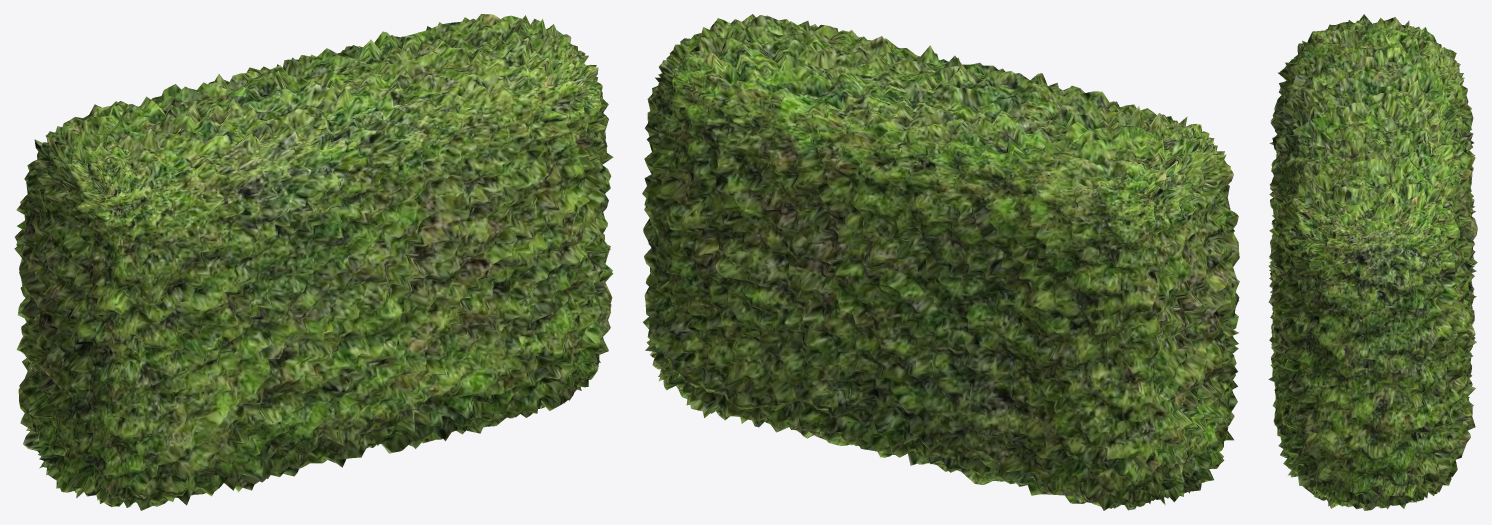
File: hedge.fbx
The picture shows the model from 3 angles, left to right: view 1: azimuth 30°, elevation 25°; view 2: azimuth 150°, elevation 25°; view 3: azimuth 270°, elevation 25°; orthographic projection. The views are drawn at different scales.
Parts seen in each view (by area): view 1: Cube.001; view 2: Cube.001; view 3: Cube.001.
Boxes of the visible parts, x1,y1,x2,y2 form: Cube.001: [14, 14, 613, 510]; Cube.001: [642, 14, 1239, 510]; Cube.001: [1268, 14, 1477, 510].
Bounding box in the file's own units: 15471 × 10000 × 5938.
1 material, 1 textured.
